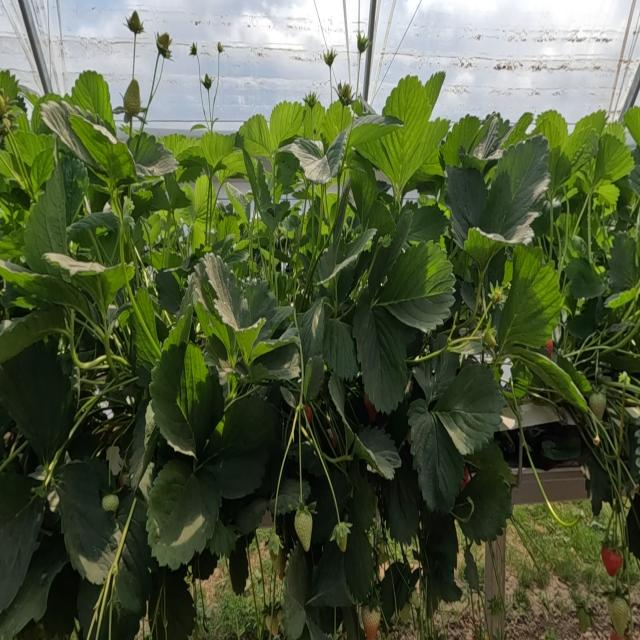Leaves: (1, 339, 75, 459), (150, 342, 224, 456), (201, 395, 280, 498), (147, 460, 220, 569), (56, 460, 117, 584), (2, 528, 67, 639), (479, 137, 549, 238), (378, 241, 455, 331), (498, 252, 563, 351), (354, 295, 407, 414), (434, 363, 503, 454), (378, 75, 430, 192), (410, 404, 463, 514), (1, 473, 43, 611), (24, 162, 68, 273), (1, 262, 89, 316), (511, 349, 586, 408), (459, 458, 511, 543), (367, 206, 414, 299), (202, 253, 255, 331), (118, 501, 154, 612), (189, 263, 232, 355), (303, 444, 337, 552), (383, 449, 420, 543), (290, 125, 348, 183), (149, 567, 195, 639), (444, 167, 487, 244), (5, 132, 53, 198), (41, 100, 89, 166), (307, 539, 353, 606), (321, 229, 376, 283), (0, 316, 62, 362), (163, 276, 200, 350), (283, 541, 310, 639), (72, 72, 114, 134), (220, 486, 270, 536), (344, 520, 374, 603), (82, 264, 132, 313), (355, 427, 401, 479), (564, 110, 606, 166), (132, 290, 162, 367), (128, 132, 178, 177), (297, 301, 329, 371), (321, 319, 358, 379), (347, 114, 402, 154), (414, 353, 459, 401), (594, 134, 634, 187), (350, 153, 378, 228), (348, 461, 376, 535), (328, 374, 355, 449), (59, 151, 87, 223), (441, 115, 479, 164), (243, 146, 271, 212), (608, 233, 638, 294), (192, 175, 215, 252), (130, 399, 151, 483), (418, 119, 449, 175), (269, 101, 303, 151), (407, 205, 447, 245), (565, 258, 604, 299), (473, 116, 509, 160), (380, 563, 407, 620), (257, 344, 300, 379), (193, 175, 215, 242), (586, 456, 611, 514), (67, 212, 118, 239), (542, 425, 580, 461), (534, 110, 568, 149), (239, 114, 271, 155), (245, 280, 276, 322), (200, 132, 233, 170), (235, 320, 264, 363), (333, 176, 350, 249), (368, 196, 394, 238), (261, 306, 293, 340), (160, 134, 201, 160), (156, 271, 181, 313), (209, 519, 237, 556), (274, 153, 299, 194), (567, 305, 596, 339), (317, 244, 344, 280), (226, 182, 250, 222), (334, 261, 354, 308), (165, 174, 190, 208), (277, 479, 301, 514), (593, 180, 619, 212), (306, 355, 324, 399), (217, 151, 246, 178), (463, 545, 479, 590), (180, 183, 196, 228), (425, 71, 444, 107), (216, 216, 239, 241), (116, 495, 132, 528), (0, 70, 18, 99), (133, 190, 152, 215), (259, 210, 278, 235), (460, 280, 476, 309), (152, 184, 170, 209), (306, 216, 319, 247), (223, 249, 249, 264), (233, 239, 249, 260), (292, 185, 312, 200), (275, 244, 290, 263), (283, 215, 299, 231), (326, 192, 337, 214), (260, 248, 270, 262), (302, 482, 310, 499)
Strawberries: (608, 596, 630, 636), (294, 508, 311, 551), (123, 78, 141, 116), (601, 547, 622, 575), (361, 608, 379, 639), (331, 522, 350, 551), (269, 549, 286, 580), (587, 392, 606, 419), (106, 445, 122, 474), (127, 11, 143, 36), (265, 611, 281, 635), (156, 34, 171, 59), (337, 83, 352, 104), (577, 607, 590, 631), (489, 286, 505, 304), (102, 495, 119, 511), (483, 329, 496, 347), (544, 337, 553, 359), (1, 95, 7, 117), (304, 405, 311, 422)
